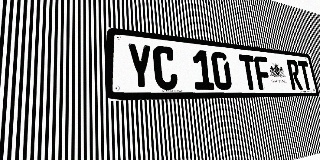0: (210, 51, 232, 90)
1: (191, 49, 214, 90)
C: (152, 45, 178, 90)
F: (253, 56, 272, 90)
R: (286, 59, 303, 90)
T: (238, 54, 259, 90), (297, 60, 313, 90)
Y: (126, 42, 154, 90)
